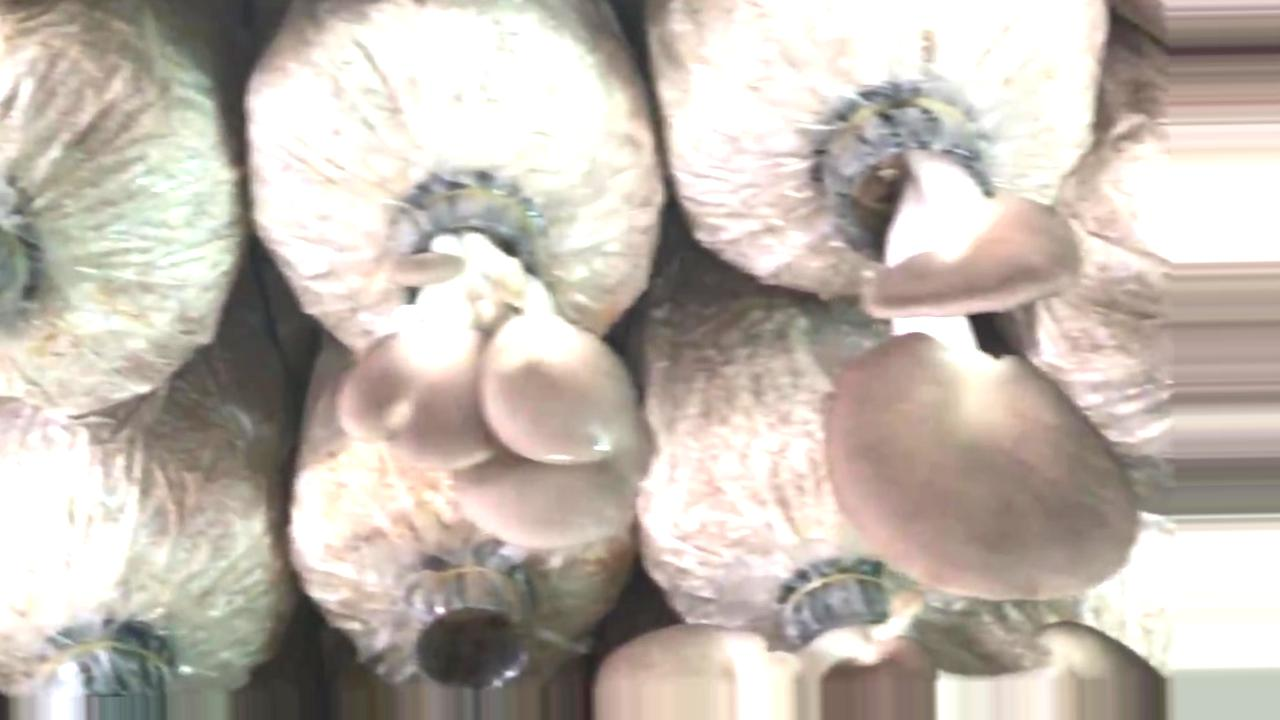nam: (820, 85, 1145, 605), (343, 170, 656, 555), (596, 570, 1175, 720)
